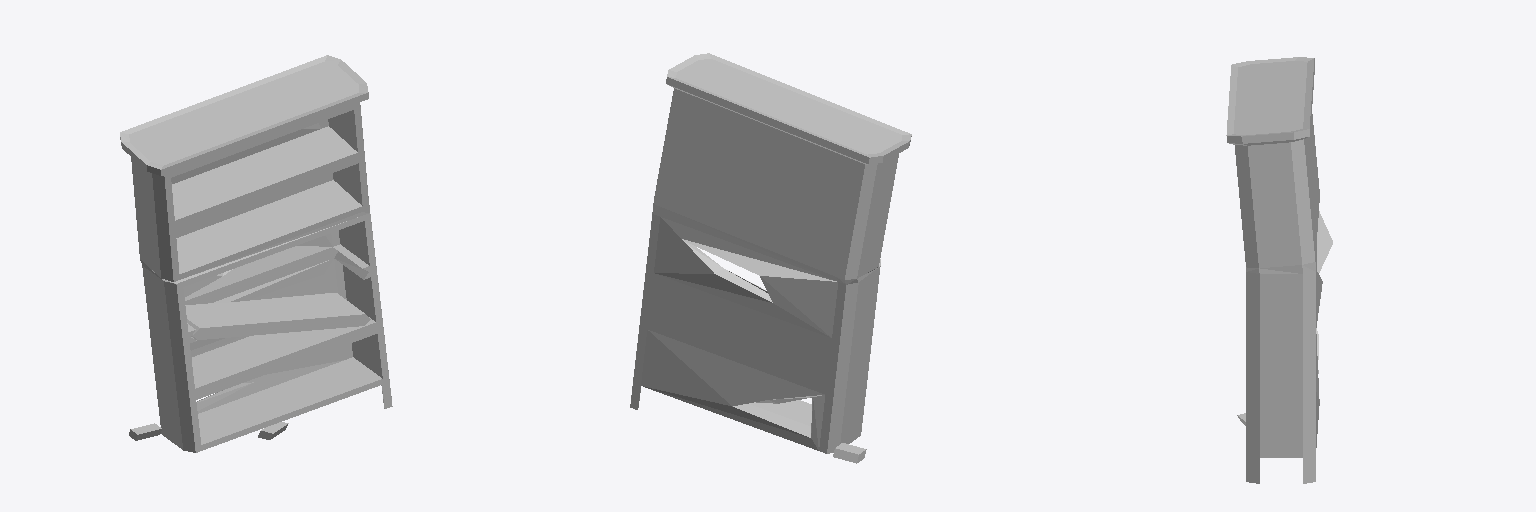
Rendered from Bookshelf_Damaged.obj.
The picture shows the model from 3 angles: view 1: azimuth 30°, elevation 25°; view 2: azimuth 150°, elevation 25°; view 3: azimuth 270°, elevation 25°; orthographic projection.
Visible parts, largest first — view 1: Bookshelf_Damaged_Cube.009; view 2: Bookshelf_Damaged_Cube.009; view 3: Bookshelf_Damaged_Cube.009.
Boxes of the visible parts, box(x1,y1,x2,y2) form: Bookshelf_Damaged_Cube.009: box(120, 55, 392, 452); Bookshelf_Damaged_Cube.009: box(630, 53, 911, 463); Bookshelf_Damaged_Cube.009: box(1226, 57, 1332, 483).
Size of the model in its own units: 4.91 by 6.31 by 1.81.